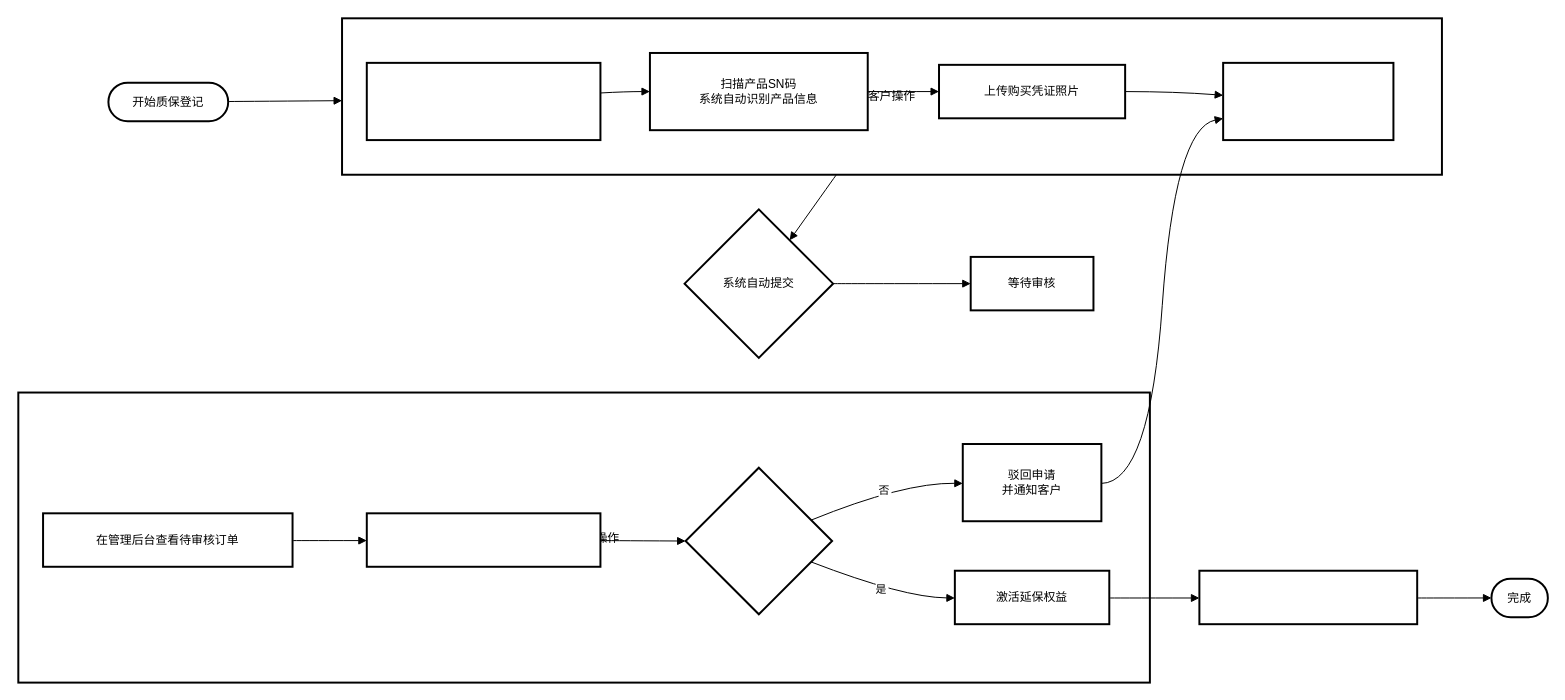
Some shapes in this 1565 by 700 pixel diagram are drawn without their labels. Each missing label, with the centre of its shape:
信息是否 真实有效?: [758,540]
填写并提交 个人信息登记表: [1308,101]
扫描产品包装上的二维码 进入登记界面: [483,101]
核实购买凭证与产品信息: [483,539]
系统发送激活成功通知: [1308,597]
